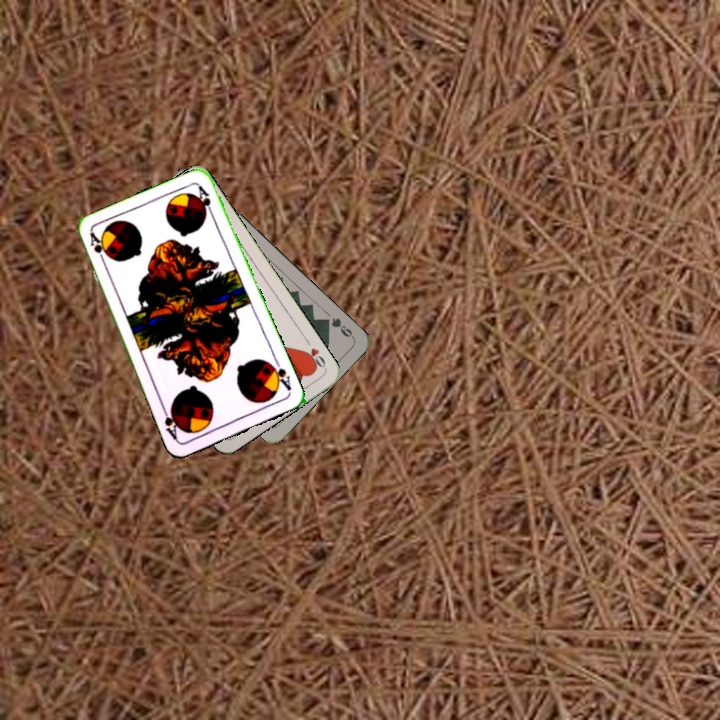G9: (319, 313, 356, 341)
HO: (300, 335, 328, 372)
SA: (265, 355, 294, 393), (86, 228, 109, 268)
